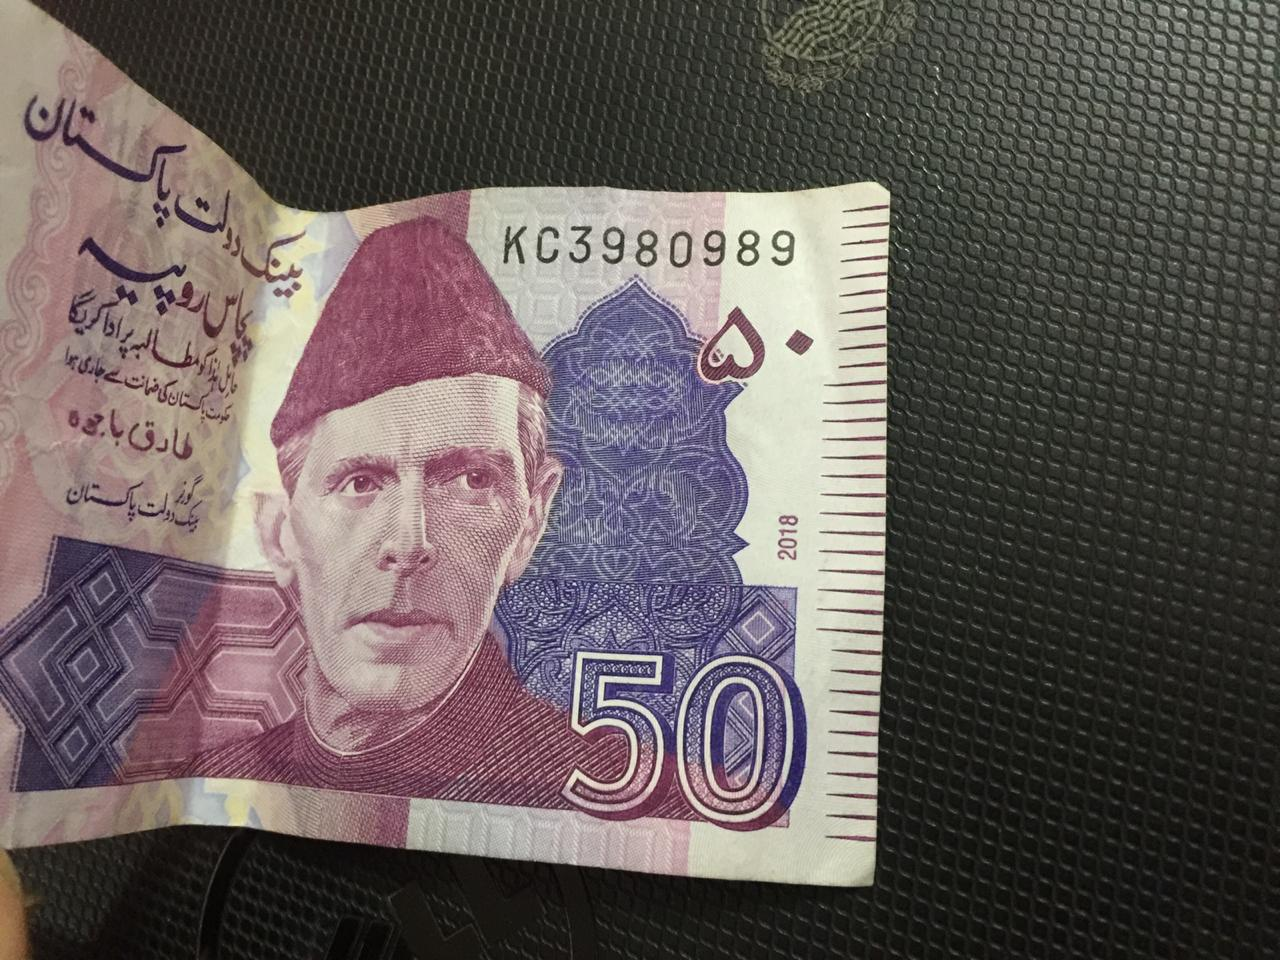50 rupee: (11, 6, 1002, 944), (552, 629, 833, 872)
